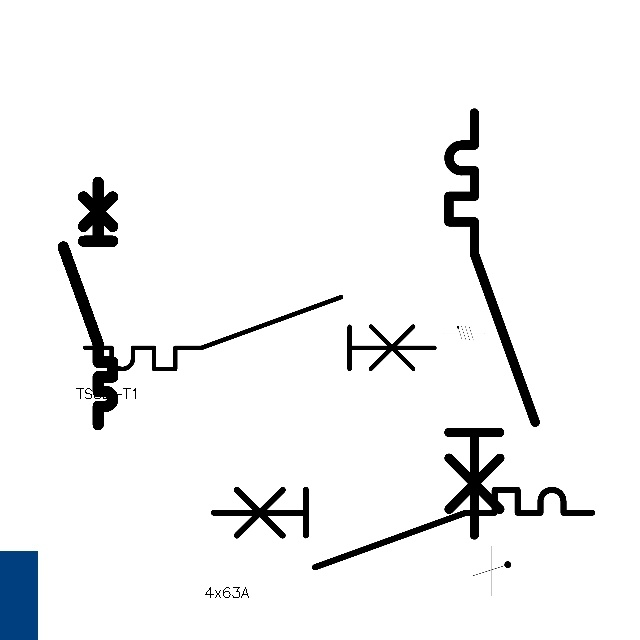interruptor_termomagnetico: (438, 102, 546, 545), (204, 480, 602, 577), (76, 288, 444, 378), (57, 176, 119, 431)
